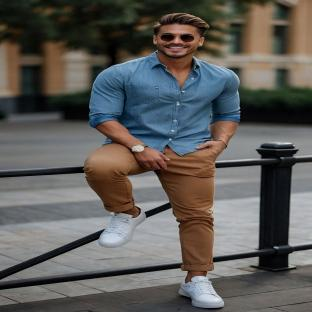Human: (84, 13, 240, 307)
